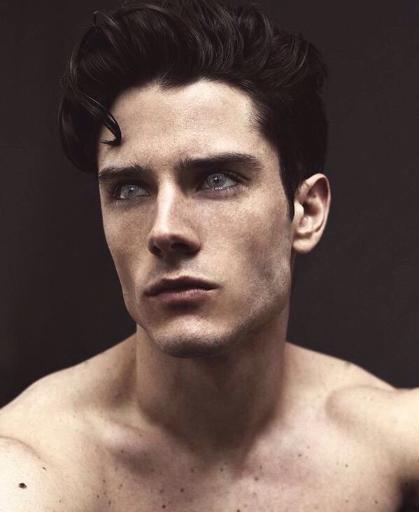left_eye: (192, 170, 251, 196)
left_lip_corner: (209, 280, 227, 299)
right_eye: (109, 181, 151, 204)
right_lip_corner: (139, 286, 157, 305)
